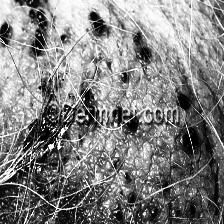Benign Marking or Mole: (35, 79, 136, 147), (19, 0, 48, 55), (88, 8, 106, 37), (181, 126, 200, 151), (0, 20, 12, 47)
